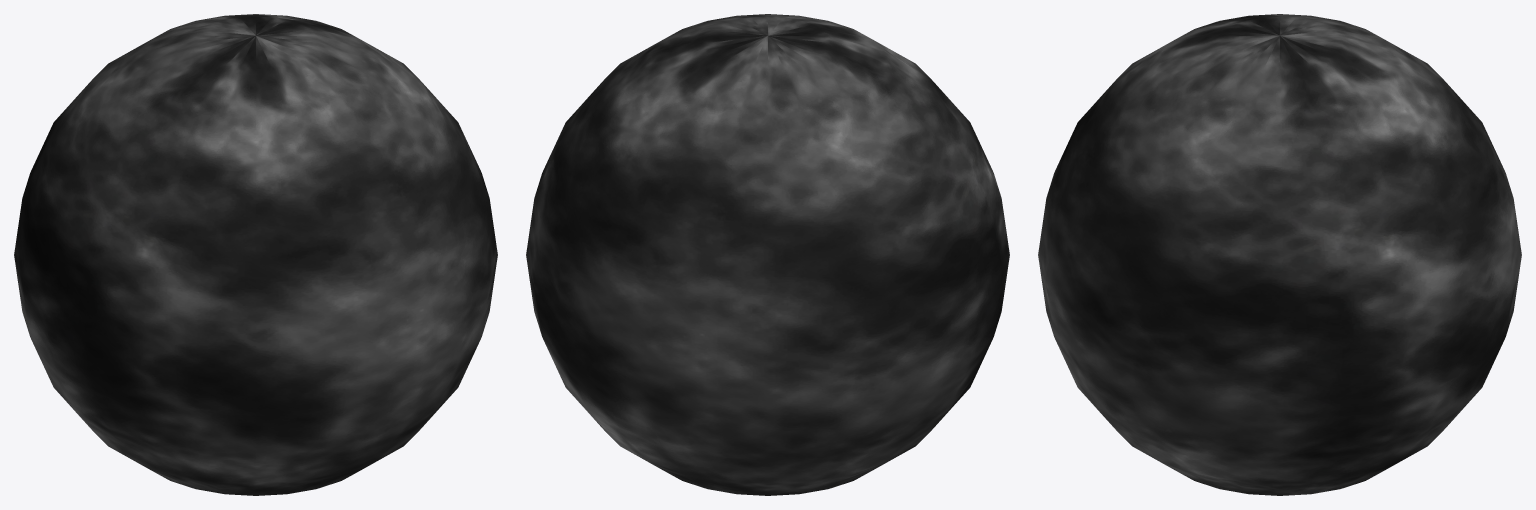
File: special_skill_direction_10800101.fbx
The picture shows the model from 3 angles, left to right: view 1: azimuth 30°, elevation 25°; view 2: azimuth 150°, elevation 25°; view 3: azimuth 270°, elevation 25°; orthographic projection.
Parts seen in each view (by area): view 1: sky; view 2: sky; view 3: sky.
Part boxes in pixels (x1,y1,x2,y2): sky: (14, 14, 497, 495); sky: (526, 14, 1009, 495); sky: (1038, 14, 1521, 495).
Bounding box in the file's own units: 1200 × 1200 × 1200.
Materials: 3 (2 with a texture image).
